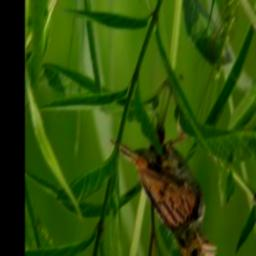Sparrow: (106, 107, 220, 256)
